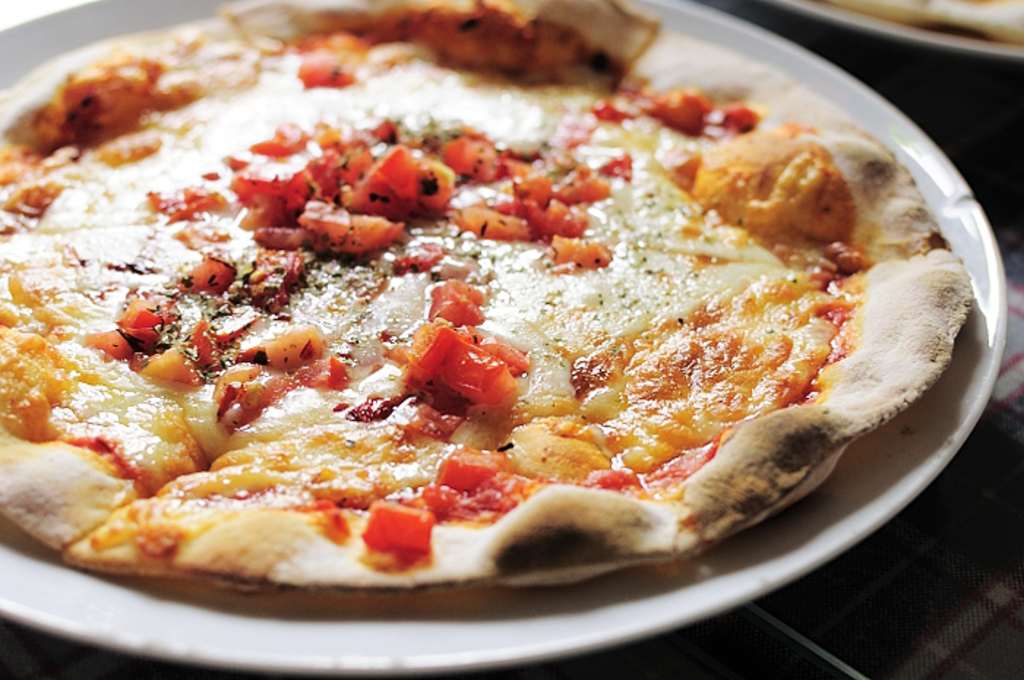Pizza: (0, 23, 968, 611)
